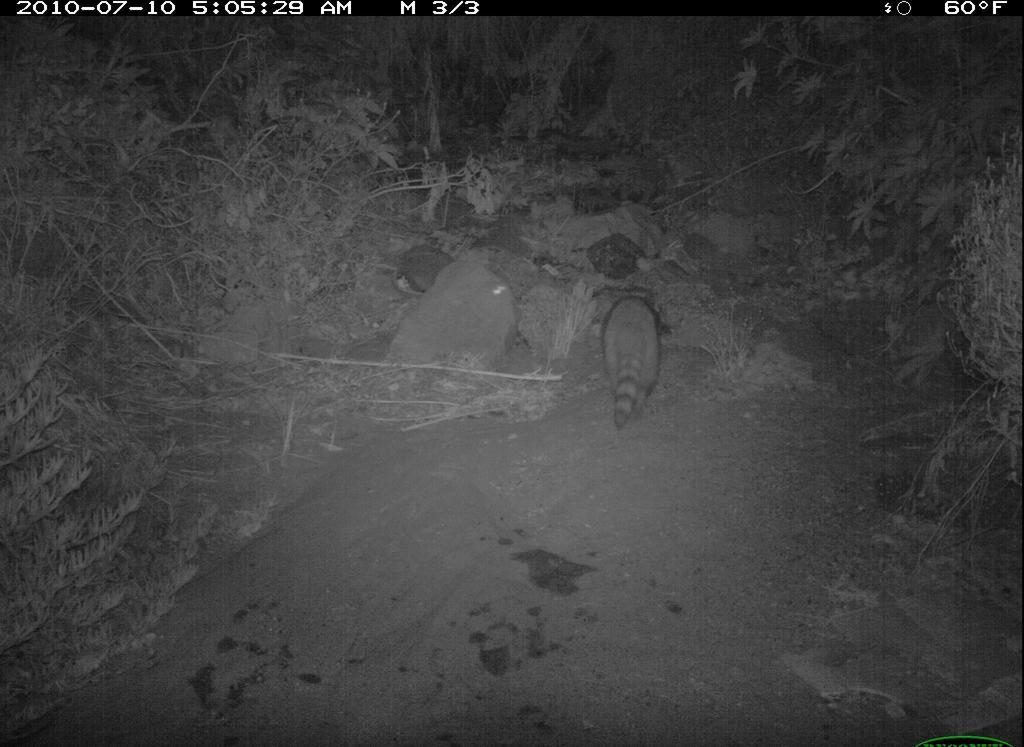raccoon: (598, 285, 669, 436)
